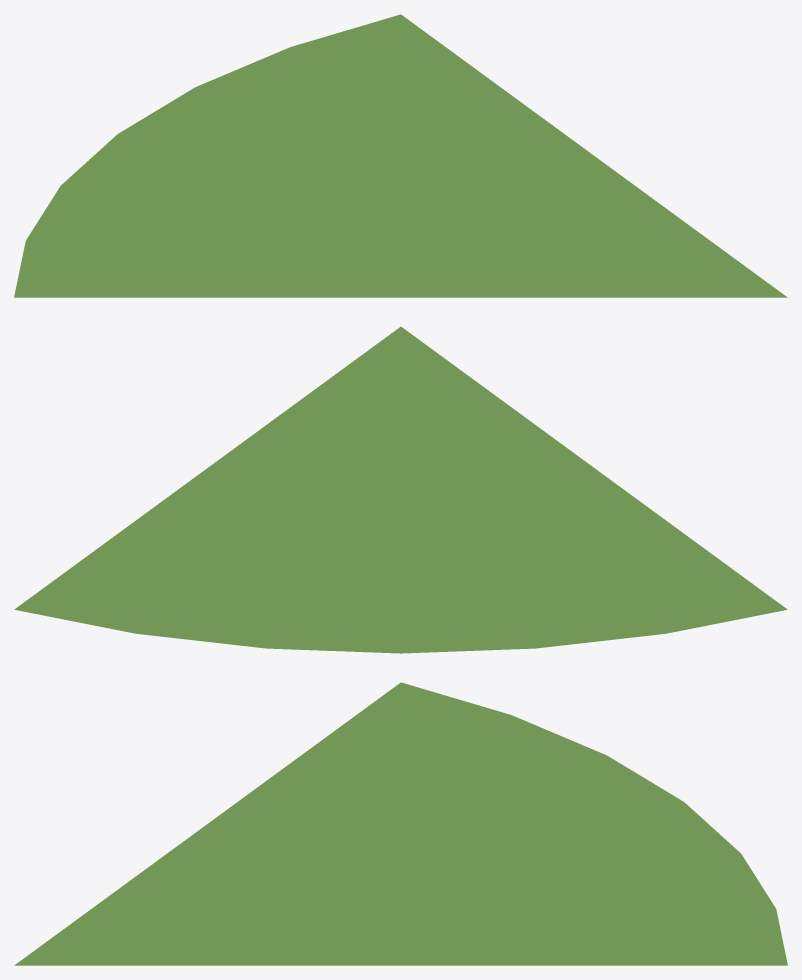
File: Disc_3_sector1.fbx
The picture shows the model from 3 angles, top to bottom: view 1: azimuth 30°, elevation 25°; view 2: azimuth 150°, elevation 25°; view 3: azimuth 270°, elevation 25°; orthographic projection.
Visible parts, largest first — view 1: polySurface119; view 2: polySurface119; view 3: polySurface119.
Boxes of the visible parts, x1,y1,x2,y2 form: polySurface119: (14, 14, 787, 297); polySurface119: (14, 326, 787, 653); polySurface119: (14, 682, 787, 965).
Size of the model in its own units: 3.52 by 0 by 4.06.
